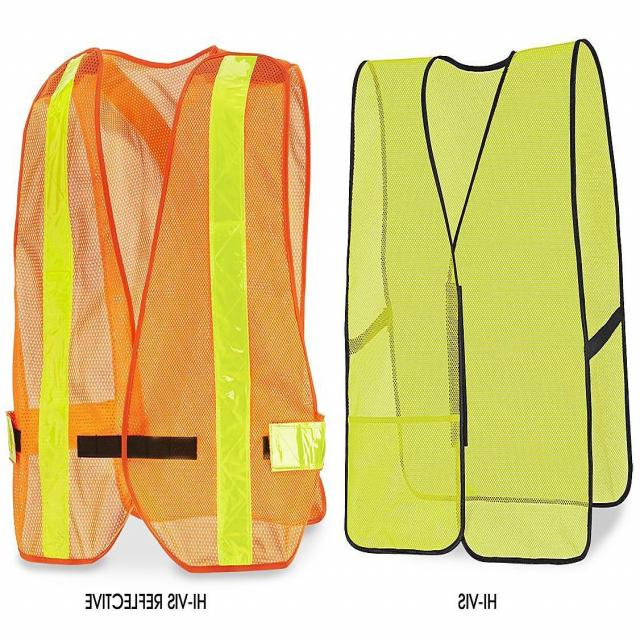Reflective-Jacket: (0, 0, 640, 620), (1, 42, 333, 589), (312, 33, 640, 573)
